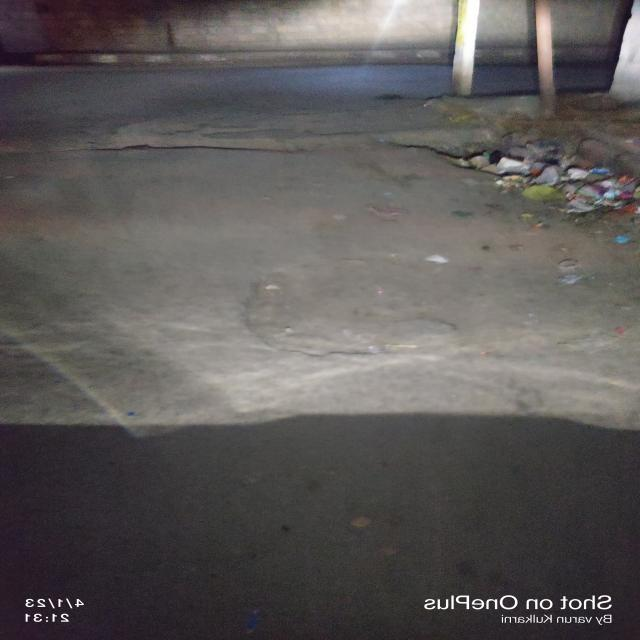potholes: (255, 256, 618, 346), (74, 124, 440, 153)
